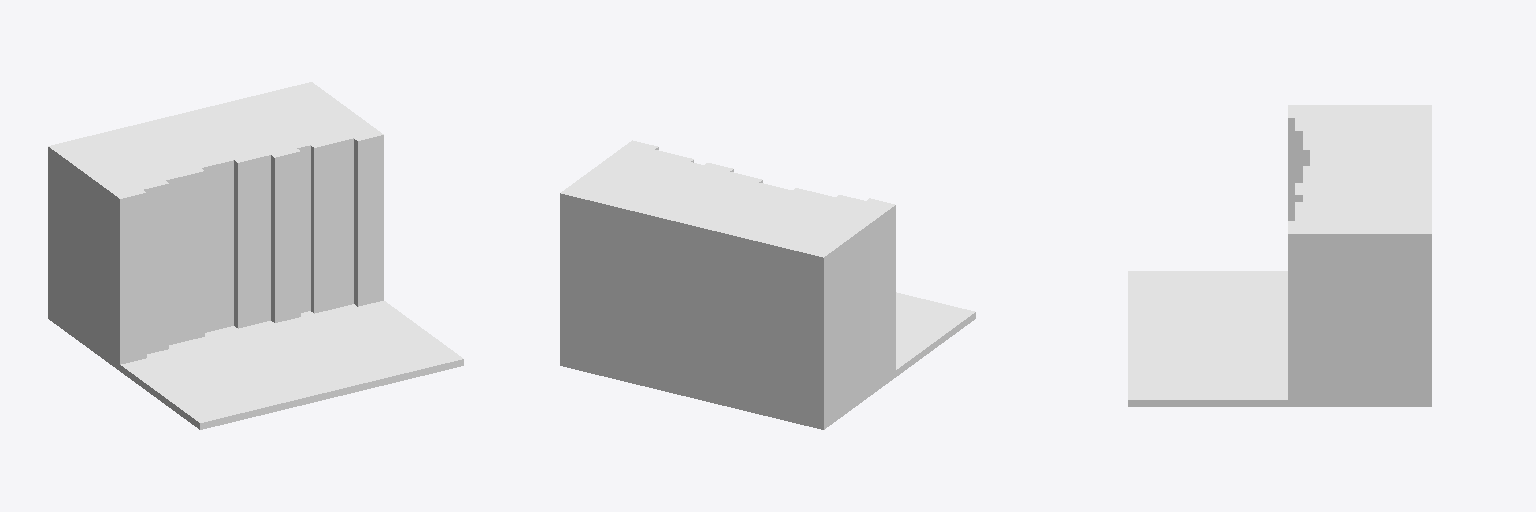
The model's file is prototype-halfmountain.obj.
3 renders of one model, left to right at view 1: azimuth 30°, elevation 25°; view 2: azimuth 150°, elevation 25°; view 3: azimuth 270°, elevation 25°, orthographic.
Parts seen in each view (by area): view 1: prototype-halfmountain; view 2: prototype-halfmountain; view 3: prototype-halfmountain.
Boxes of the visible parts, x1,y1,x2,y2 form: prototype-halfmountain: [48, 82, 463, 429]; prototype-halfmountain: [560, 140, 975, 429]; prototype-halfmountain: [1128, 105, 1431, 406].
Size of the model in its own units: 40 by 25 by 40.